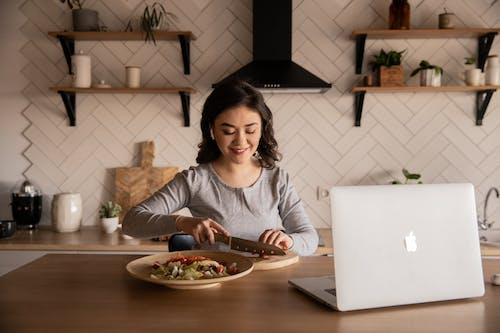knife: (213, 233, 288, 257)
